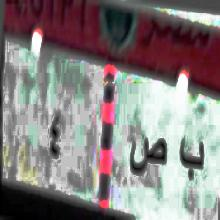4: (43, 111, 68, 170)
baa: (177, 130, 207, 186)
saad: (129, 128, 168, 190)
